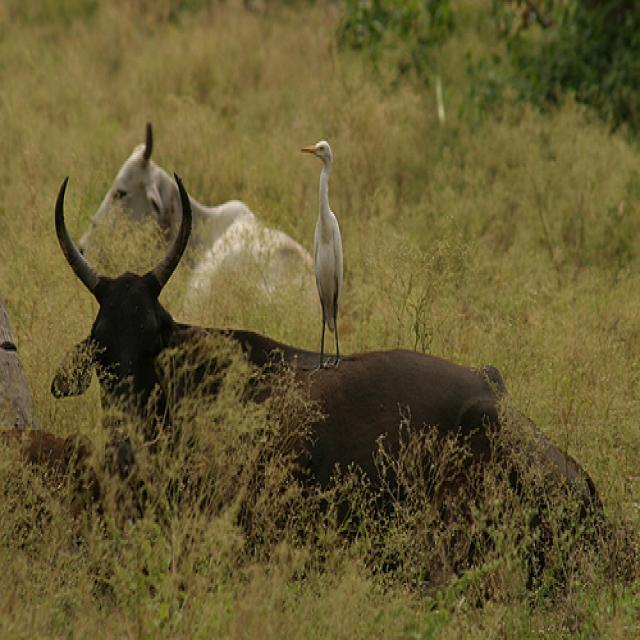cow: (28, 165, 493, 548), (74, 118, 311, 306)
